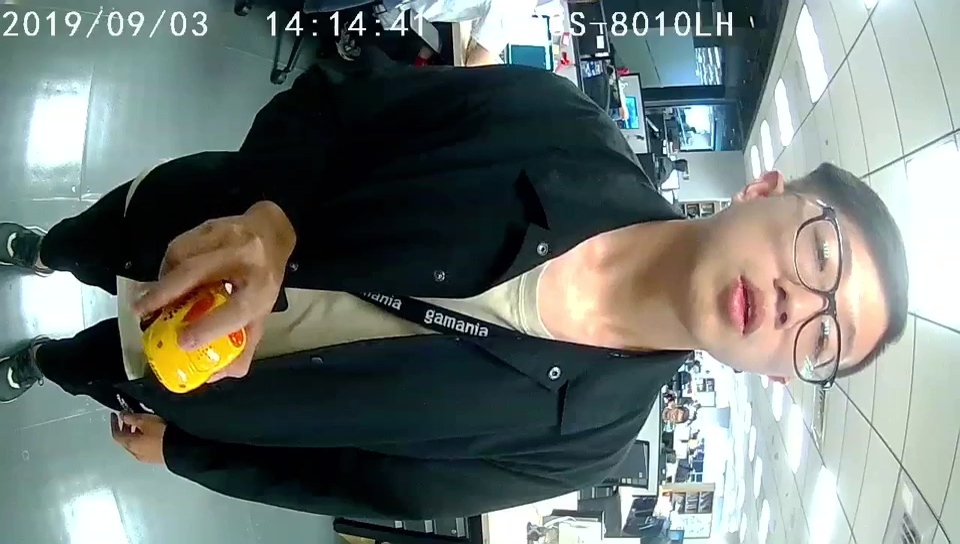car: (147, 290, 245, 394)
